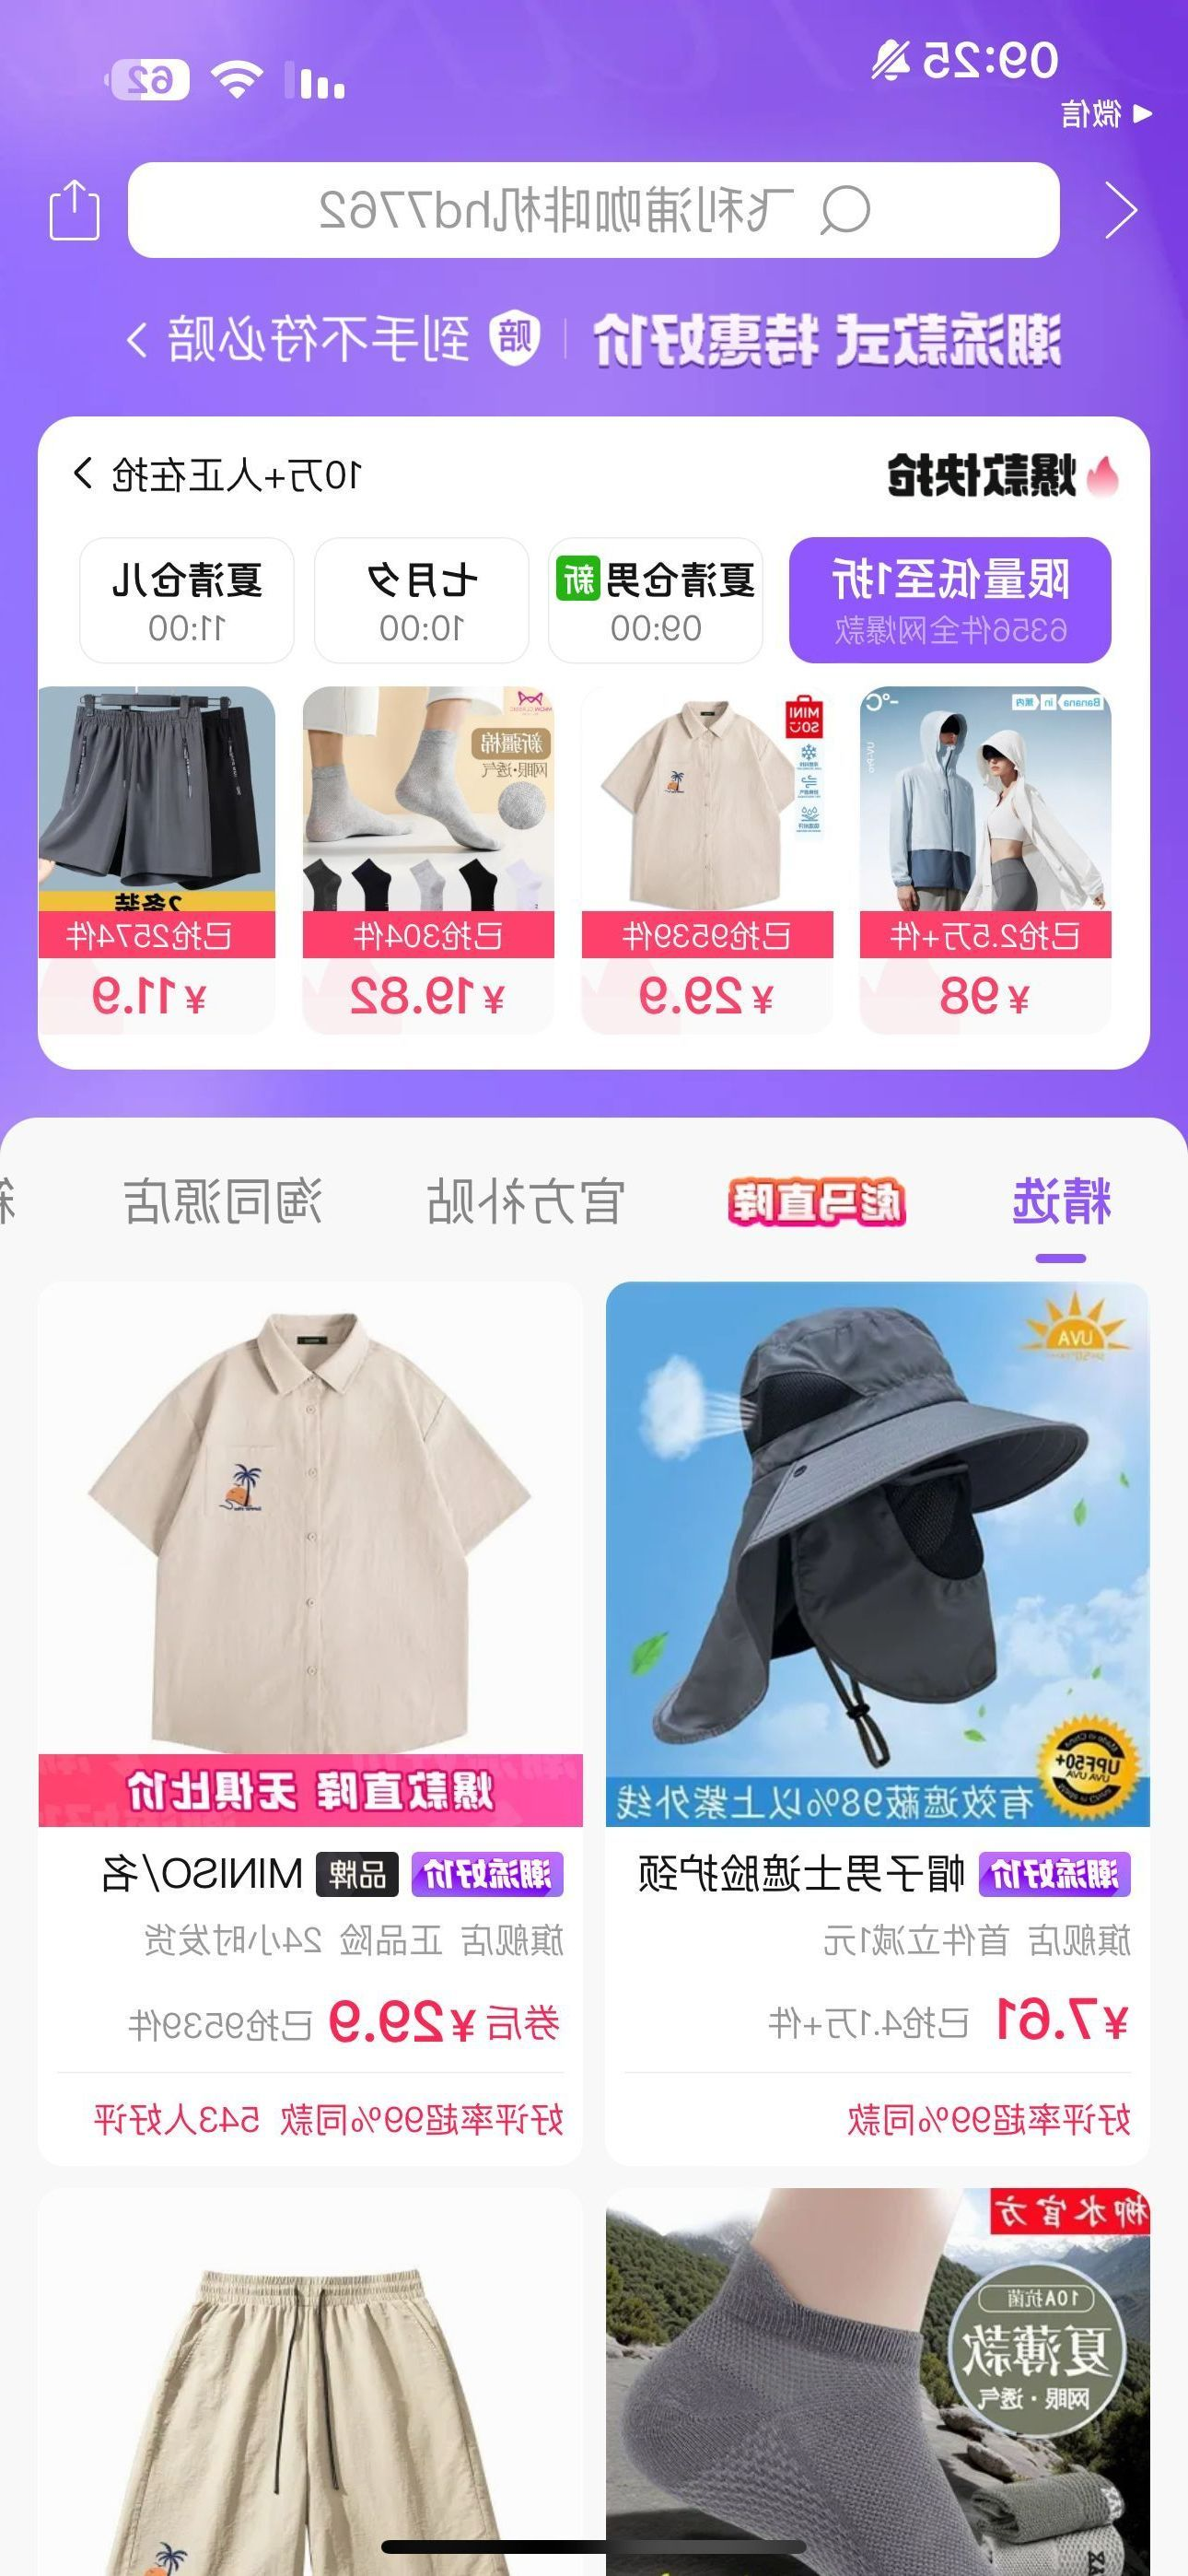item: (596, 1249, 1175, 2180), (20, 1260, 600, 2188)
op_bar: (2, 130, 1186, 292)
seckill: (12, 388, 1185, 1084)
